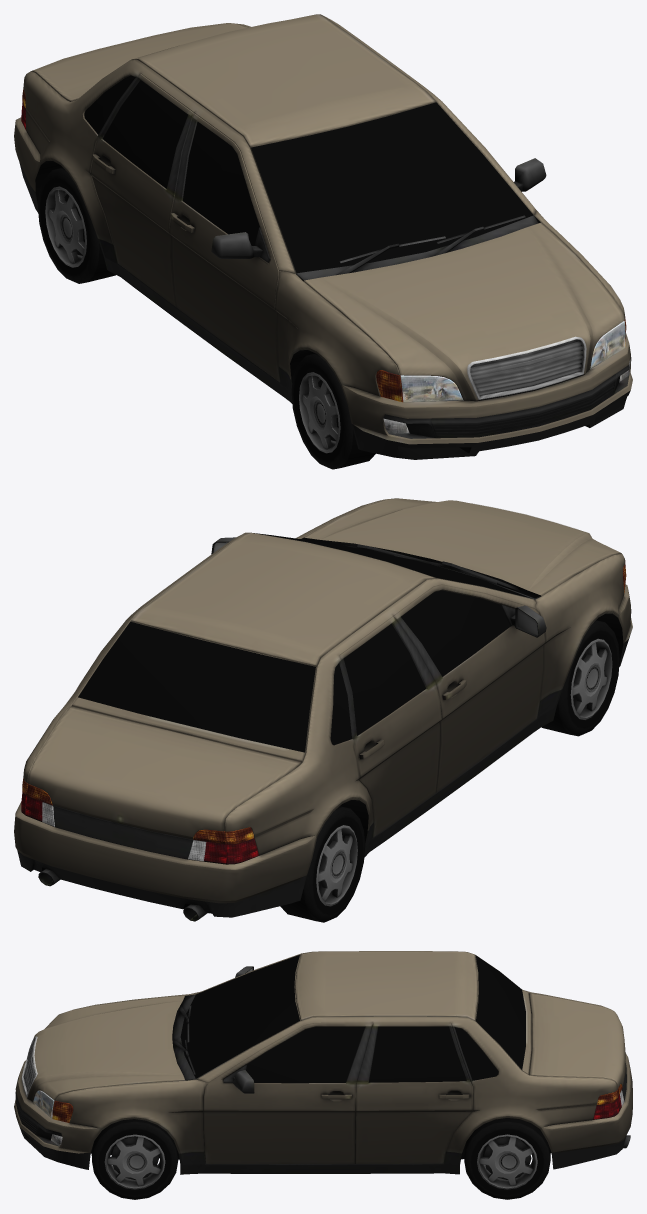
File: sedan_beige.glb
3 views of the same model, one above another, from view 1: azimuth 30°, elevation 25°; view 2: azimuth 150°, elevation 25°; view 3: azimuth 270°, elevation 25° (orthographic). The views are drawn at different scales.
Visible parts, largest first — view 1: sedan body, Front Right Wheel, Rear Right Wheel; view 2: sedan body, Rear Right Wheel, Front Right Wheel; view 3: sedan body, Rear Left Wheel, Front Left Wheel.
Part boxes in pixels (bbox=[...]): sedan body: bbox=[14, 14, 632, 459]; Front Right Wheel: bbox=[291, 353, 375, 469]; Rear Right Wheel: bbox=[38, 167, 115, 283]; sedan body: bbox=[14, 498, 632, 921]; Rear Right Wheel: bbox=[280, 806, 365, 922]; Front Right Wheel: bbox=[541, 620, 619, 736]; sedan body: bbox=[14, 951, 632, 1174]; Rear Left Wheel: bbox=[464, 1118, 550, 1199]; Front Left Wheel: bbox=[91, 1119, 178, 1199].
Size of the model in its own units: 1.94 by 1.34 by 4.36.
1 material, 1 textured.
